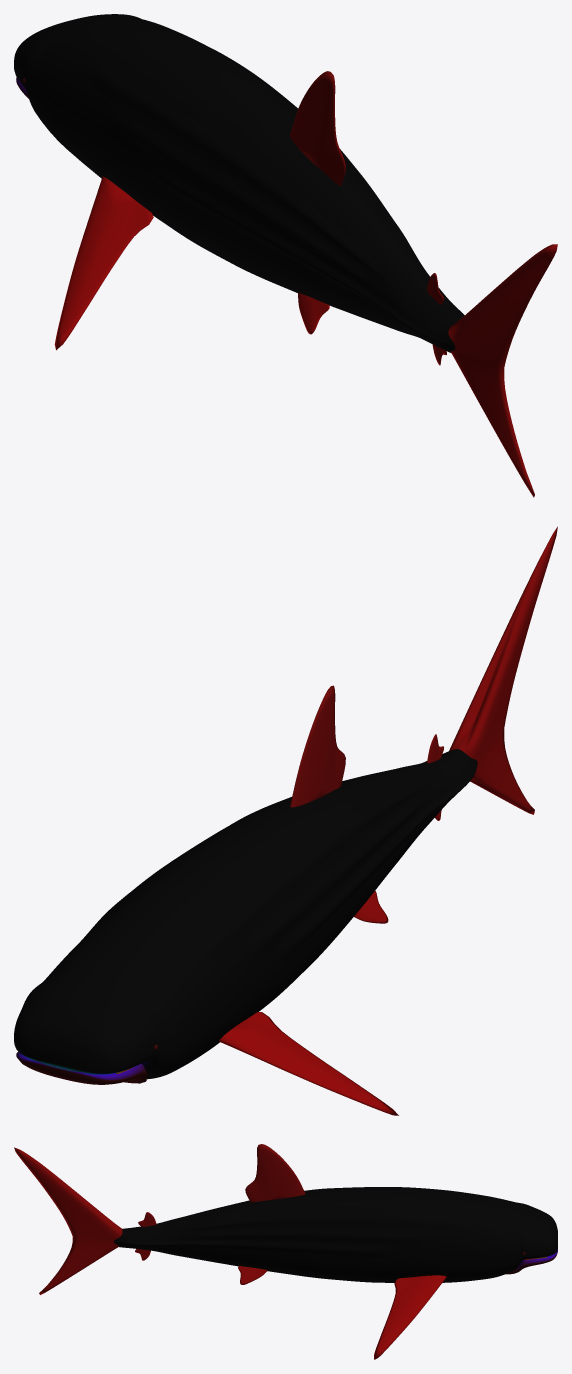
File: whale_shark.glb
3 renders of one model, top to bottom at view 1: azimuth 30°, elevation 25°; view 2: azimuth 150°, elevation 25°; view 3: azimuth 270°, elevation 25°, orthographic. The views are drawn at different scales.
Parts seen in each view (by area): view 1: whale_shark; view 2: whale_shark; view 3: whale_shark.
Part boxes in pixels (x1,y1,x2,y2): whale_shark: (14,14,557,497); whale_shark: (14,526,557,1115); whale_shark: (14,1144,557,1359).
Bounding box in the file's own units: 3.97 × 3.45 × 10.
